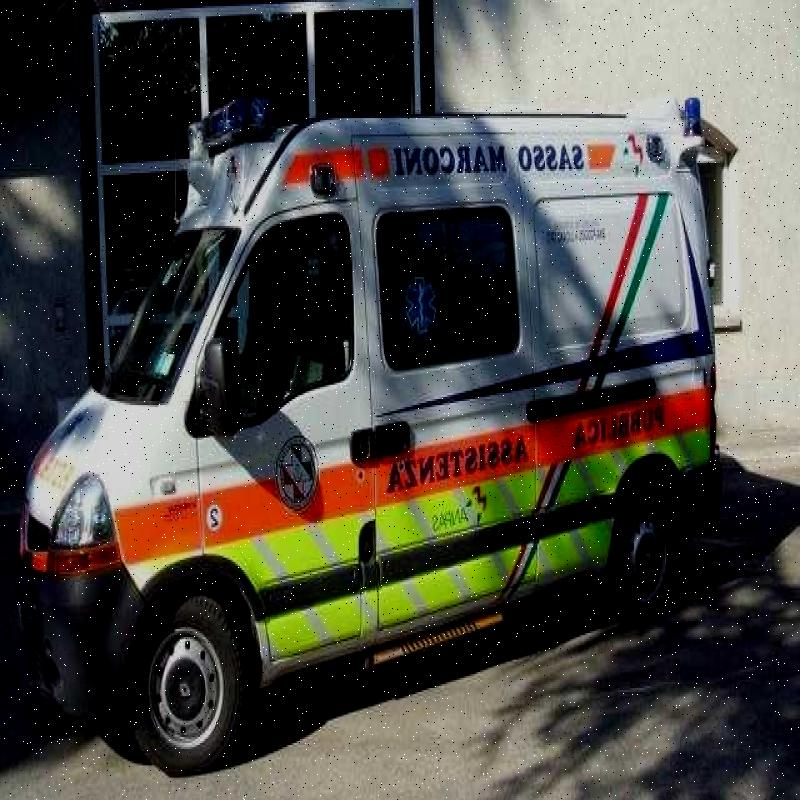AmbulanceSiren: (182, 74, 315, 159)
